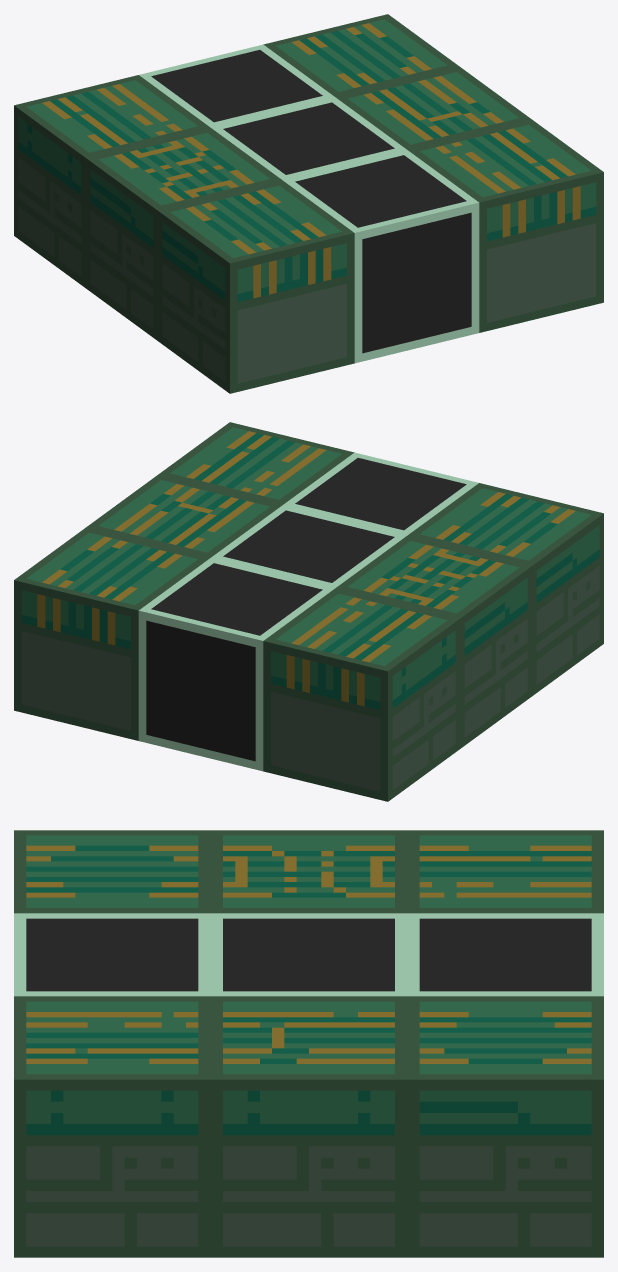
File: m_tiles_10_3x3.fbx
The picture shows the model from 3 angles, top to bottom: view 1: azimuth 30°, elevation 25°; view 2: azimuth 150°, elevation 25°; view 3: azimuth 270°, elevation 25°; orthographic projection. The views are drawn at different scales.
Visible parts, largest first — view 1: m_tiles_10_3x3; view 2: m_tiles_10_3x3; view 3: m_tiles_10_3x3.
Boxes of the visible parts, x1=… form: m_tiles_10_3x3: x1=14, y1=14, x2=603, y2=393; m_tiles_10_3x3: x1=14, y1=422, x2=603, y2=801; m_tiles_10_3x3: x1=14, y1=830, x2=603, y2=1257.
Bounding box in the file's own units: 4.8 × 1.6 × 4.8.
Materials: 1 (1 with a texture image).
